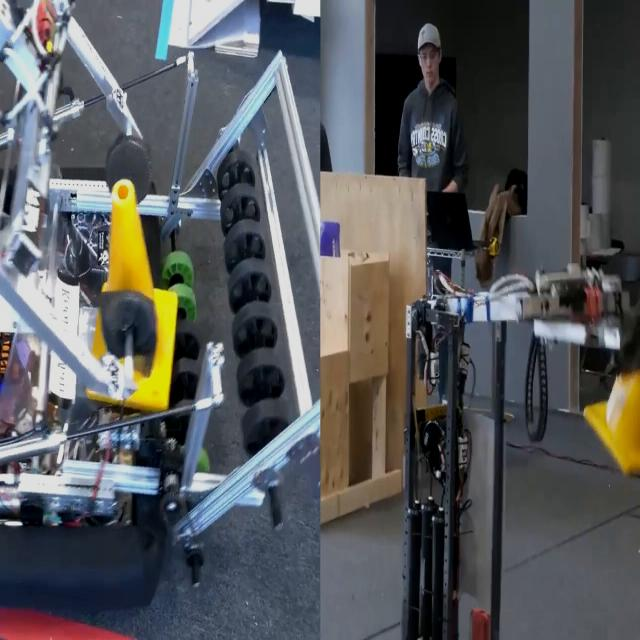frc_cone: (80, 175, 177, 411), (579, 322, 640, 486)
frc_cube: (316, 216, 344, 268)
